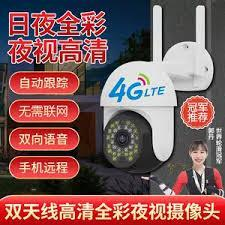maru: (96, 58, 183, 180)
